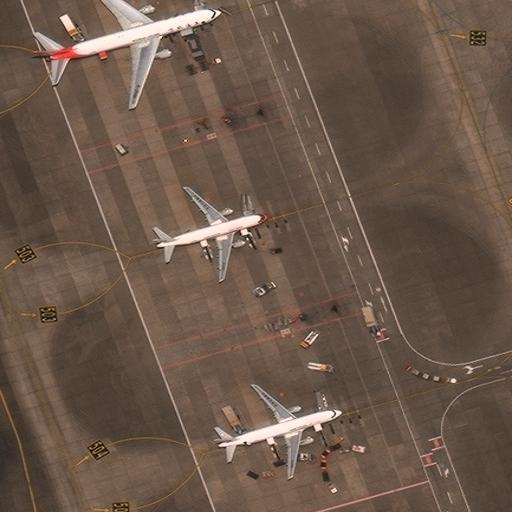Large Civil Transport: (45, 0, 221, 109)
Medium Civil Transport: (217, 383, 342, 476), (154, 185, 266, 280)
